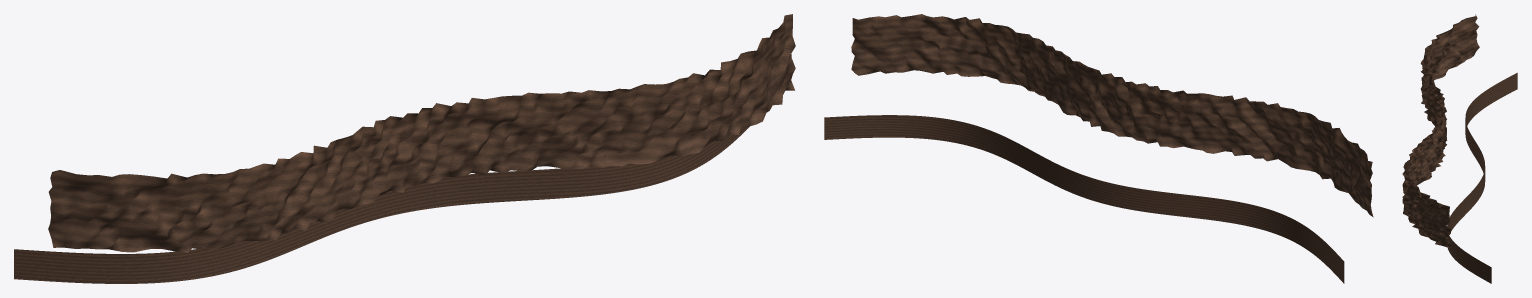
Rendered from SpireBrokenBridgeArc.obj.
3 renders of one model, left to right at view 1: azimuth 30°, elevation 25°; view 2: azimuth 150°, elevation 25°; view 3: azimuth 270°, elevation 25°, orthographic. The views are drawn at different scales.
Visible parts, largest first — view 1: SpireBrokenBridgeArc_HD; view 2: SpireBrokenBridgeArc_HD; view 3: SpireBrokenBridgeArc_HD.
Part boxes in pixels (<box>): SpireBrokenBridgeArc_HD: <box>14,14,795,283</box>; SpireBrokenBridgeArc_HD: <box>824,14,1373,283</box>; SpireBrokenBridgeArc_HD: <box>1402,14,1517,283</box>.
Size of the model in its own units: 2 by 0.36 by 0.5012.
1 material, 1 textured.
